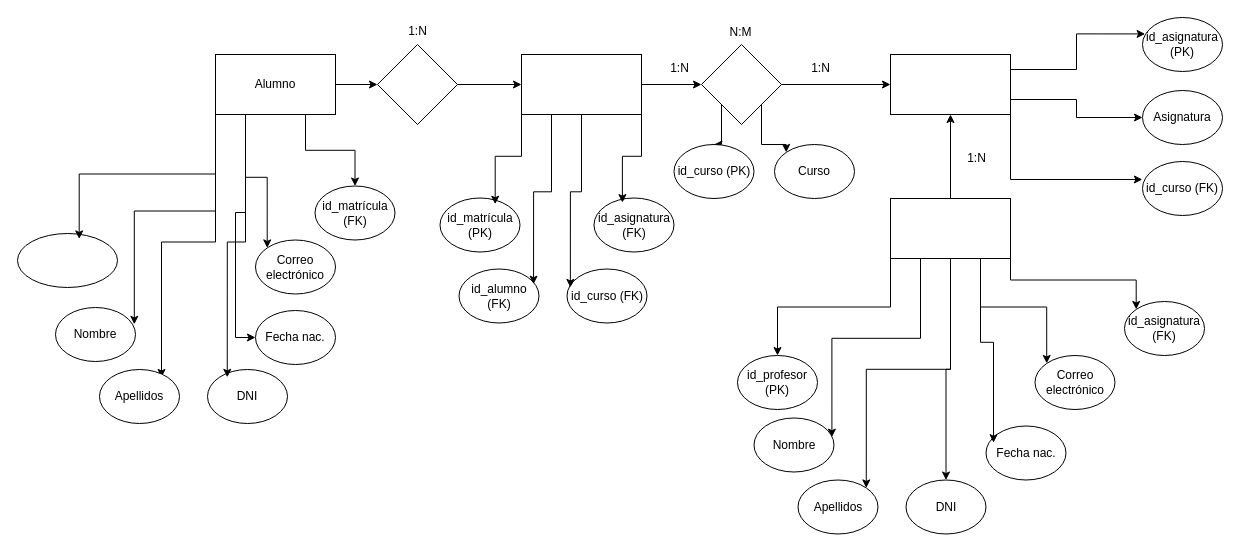
The diagram is 1240 pixels wide and 552 high, and some of its shapes have lost their labels. Here are the shapes that lost their labels. From the top down, the box of each, then its label:
(376, 44, 458, 124): Tiene
(520, 54, 642, 114): Matrícula
(700, 44, 782, 124): Que incluye
(890, 54, 1010, 114): Asignaturas
(890, 198, 1010, 258): Profesor
(16, 232, 118, 288): id_alumno(PK)
